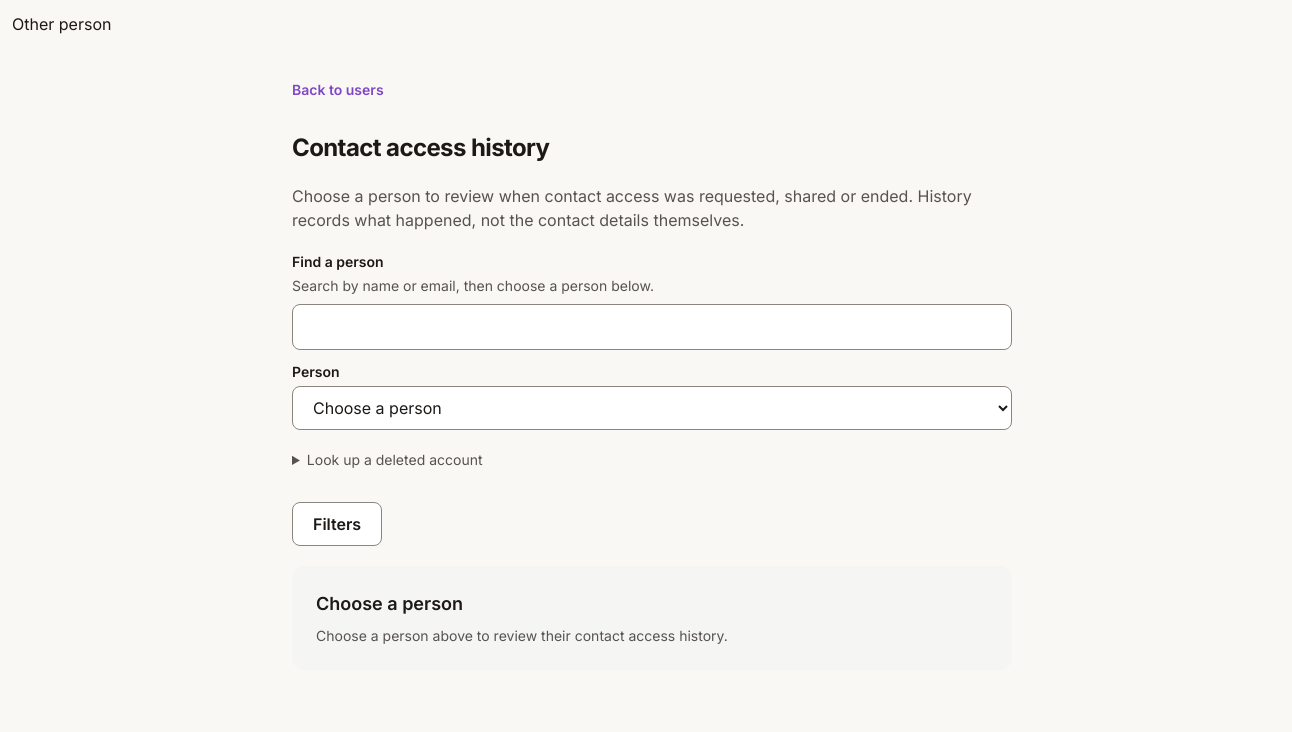
Test: finds a person by friendly metadata and submits the exact returned string ID
Type "Pat" into the search field labelled "Find a person" at (652, 327), box [292,304,1012,350]
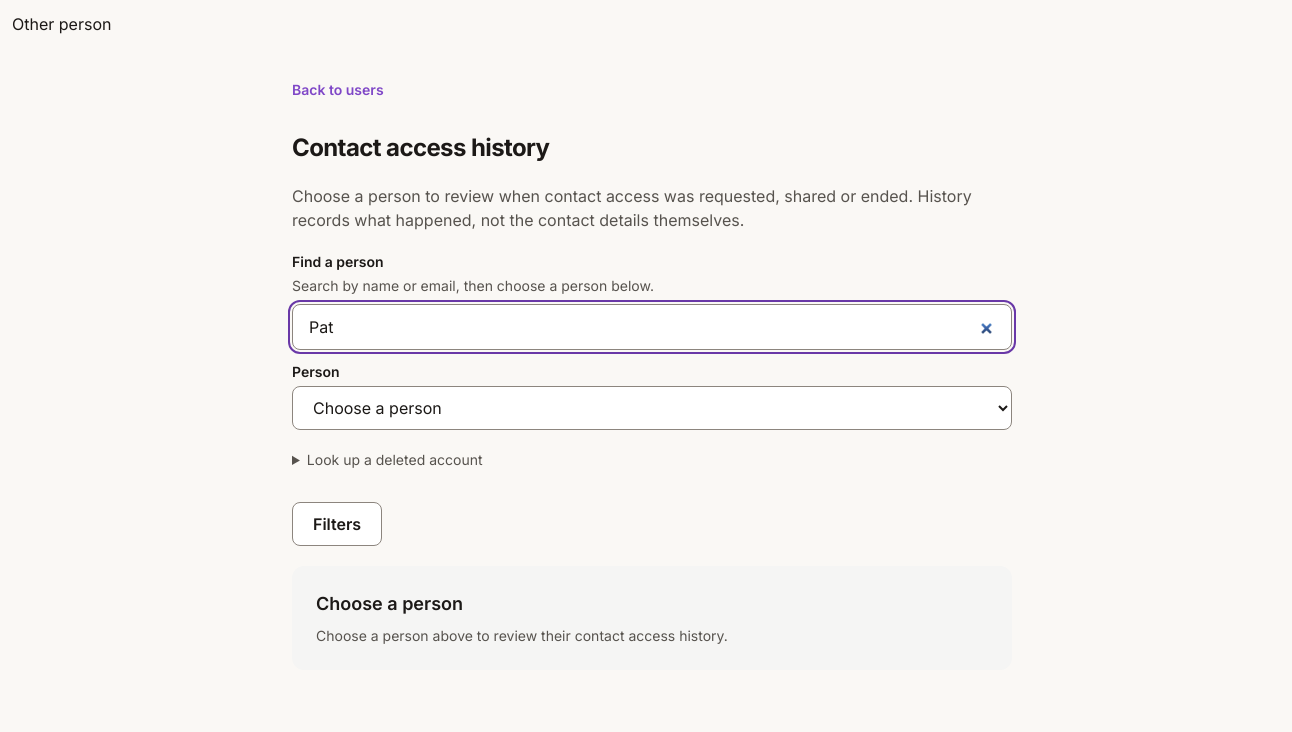
Expected: the heading "History for" is not shown
Select "Pat Friendly — pat@example.com" in the dropdown labelled "Person" at (652, 408), box [292,386,1012,430]
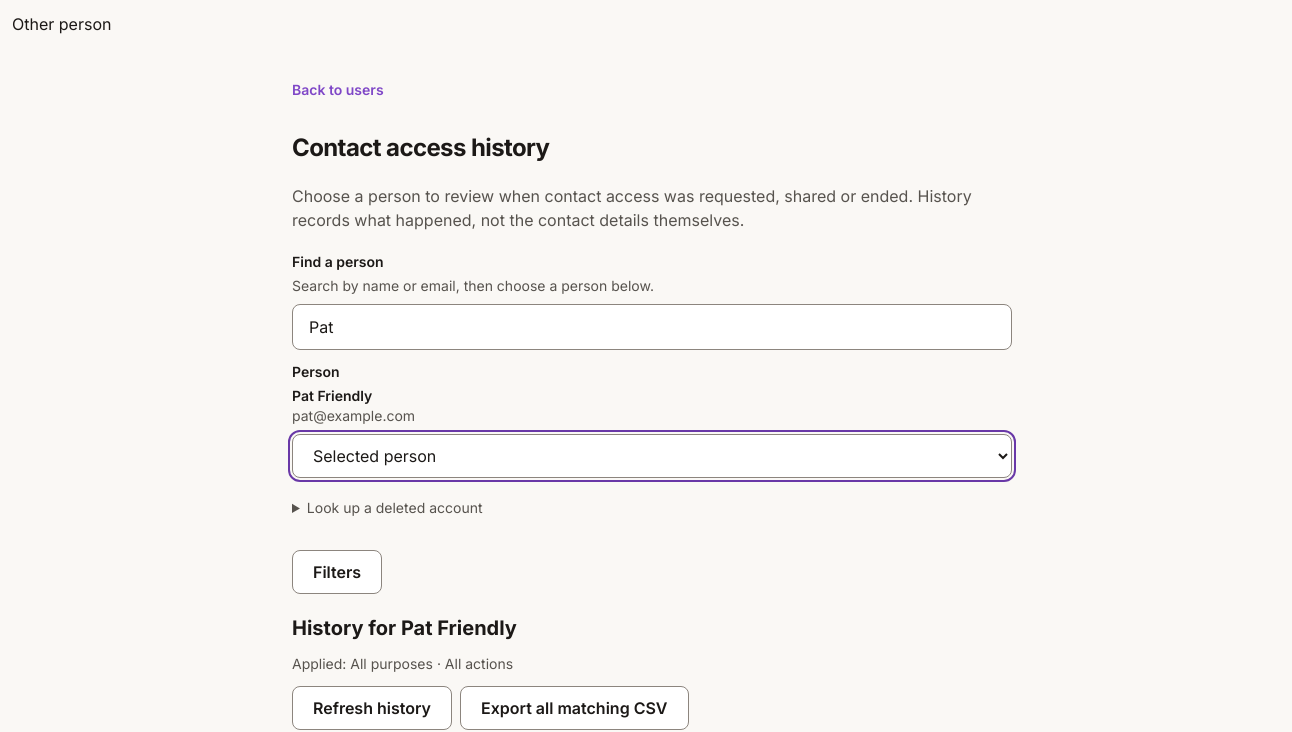
Result: the heading "History for Pat Friendly" is shown at [292,616,517,640]
